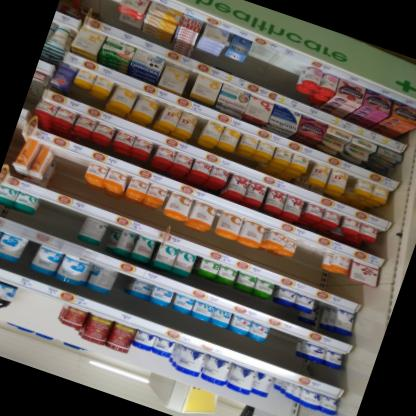empty_space: (234, 42, 305, 96), (5, 287, 65, 337), (31, 200, 86, 243), (284, 238, 331, 288), (45, 151, 91, 200), (258, 327, 305, 371), (4, 118, 29, 167), (81, 0, 123, 19)
